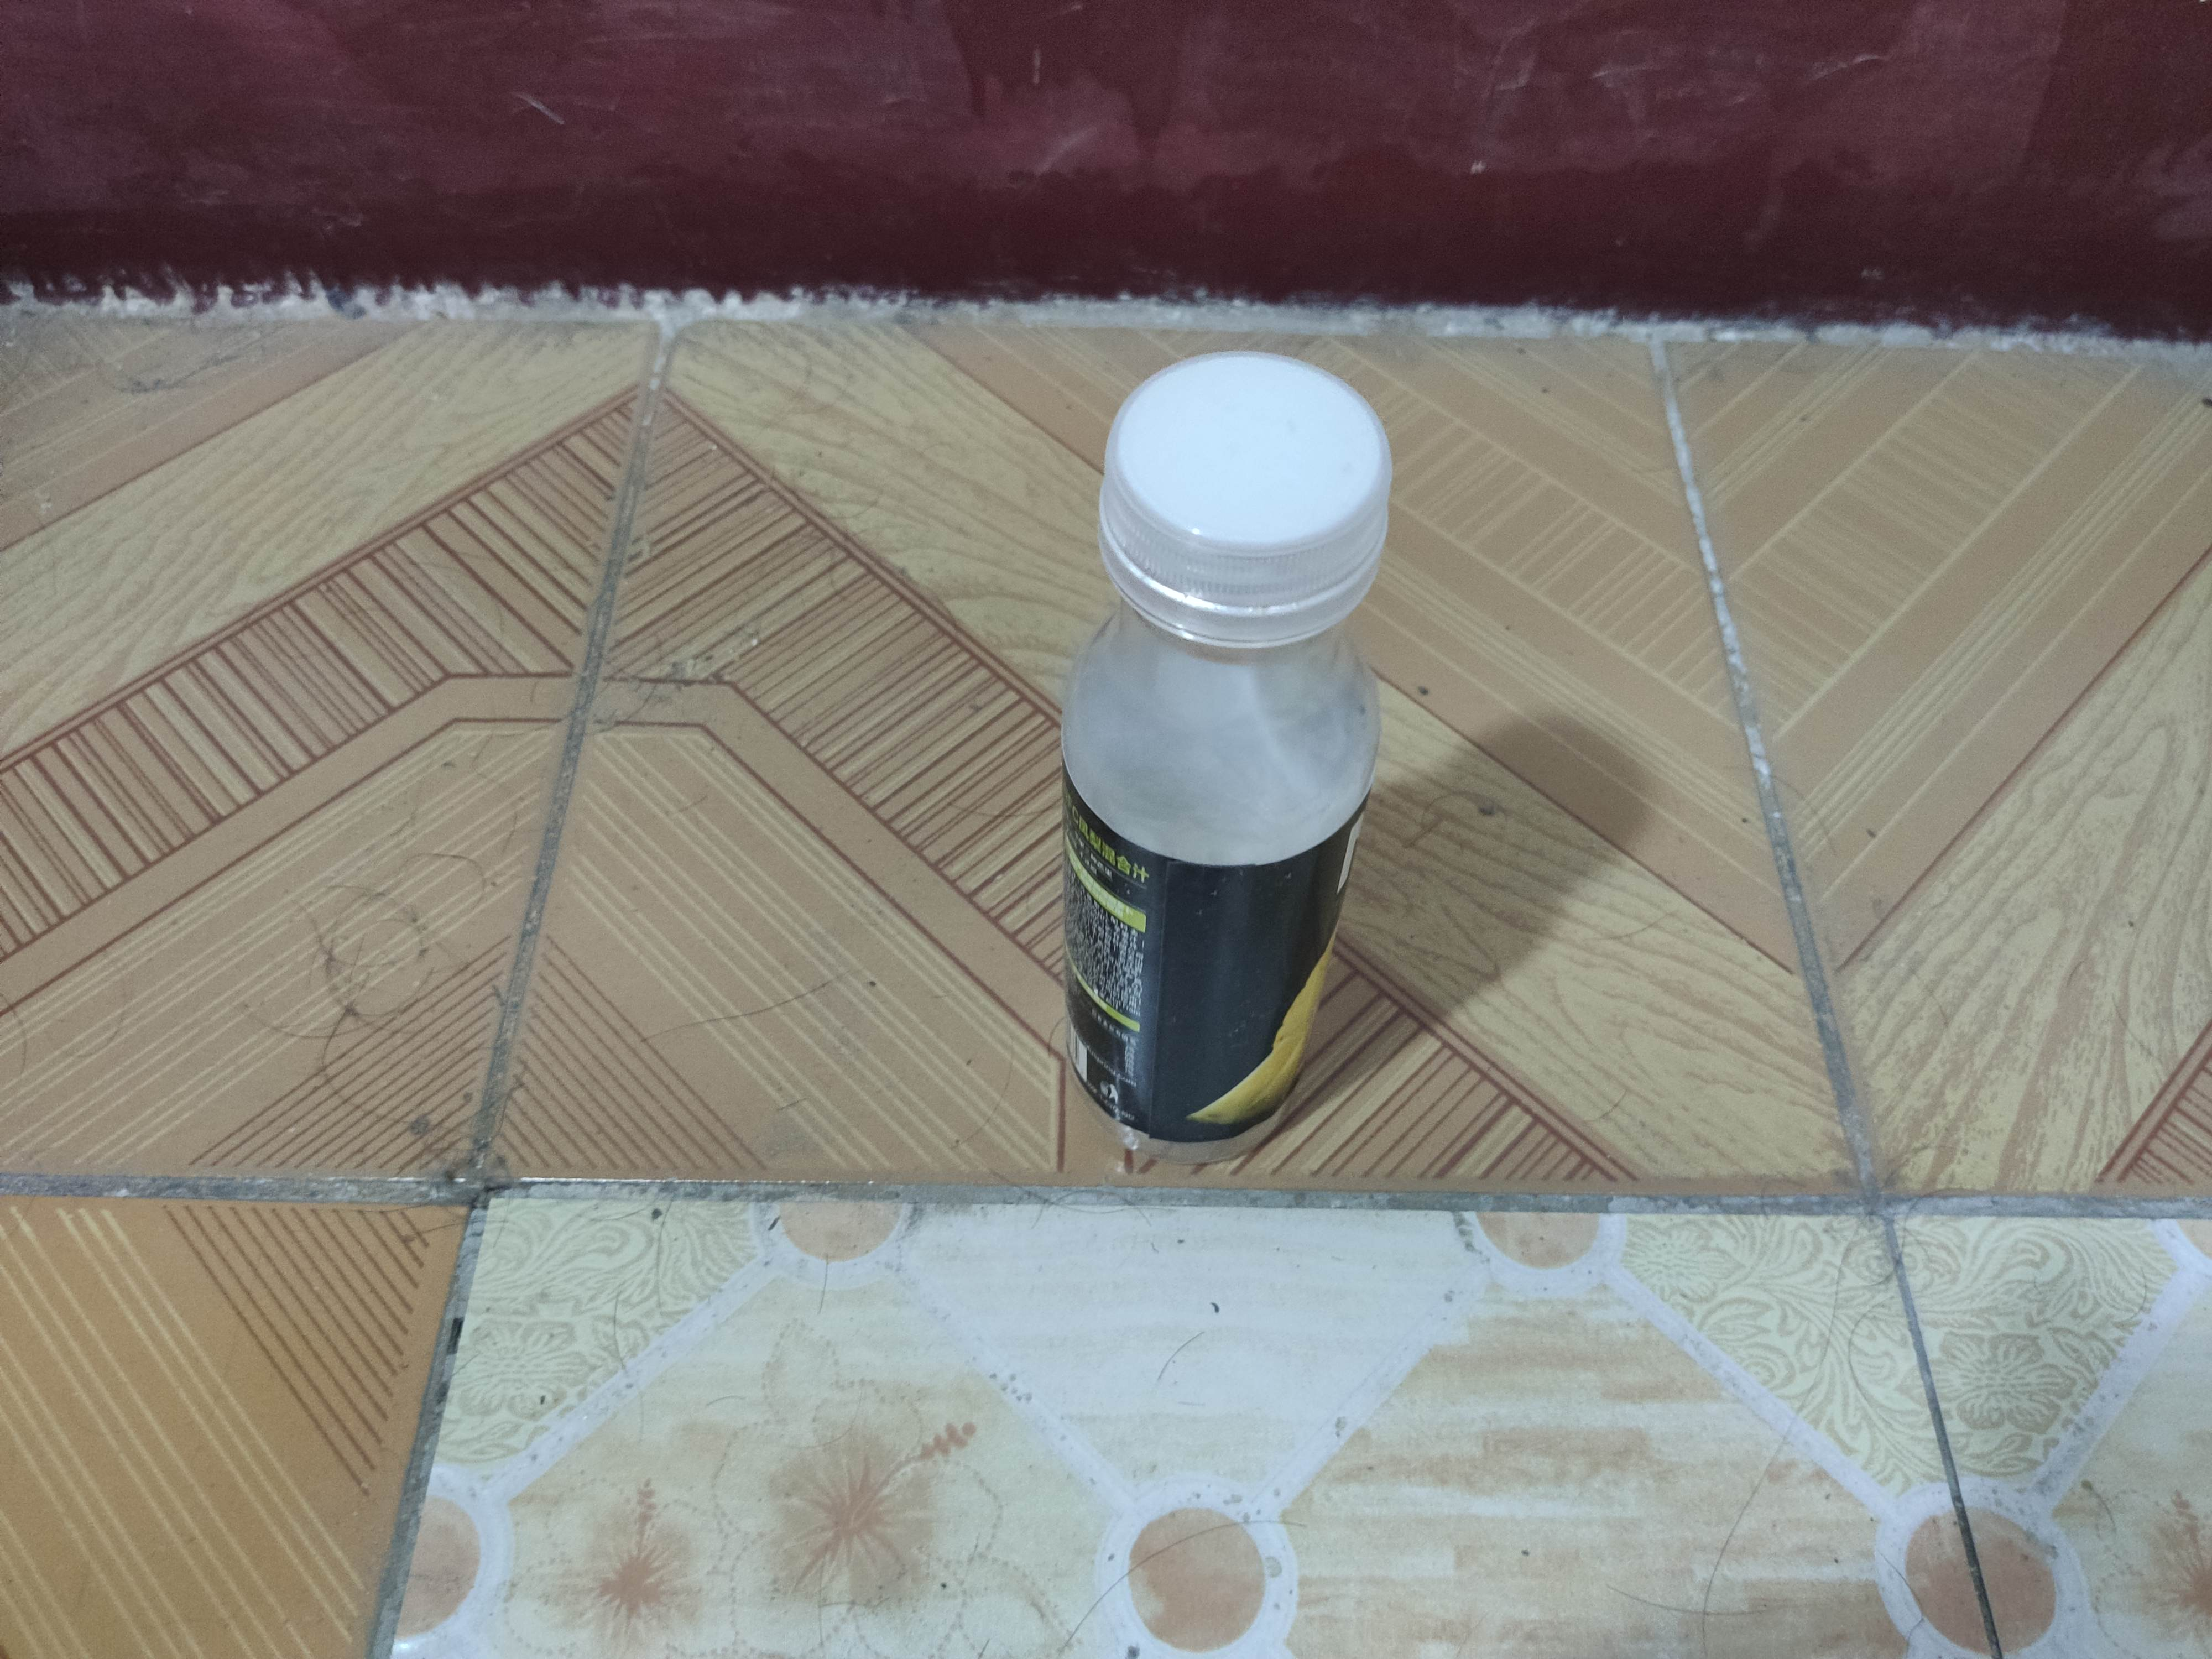Plastic Bottle: (1050, 342, 1390, 1168)
